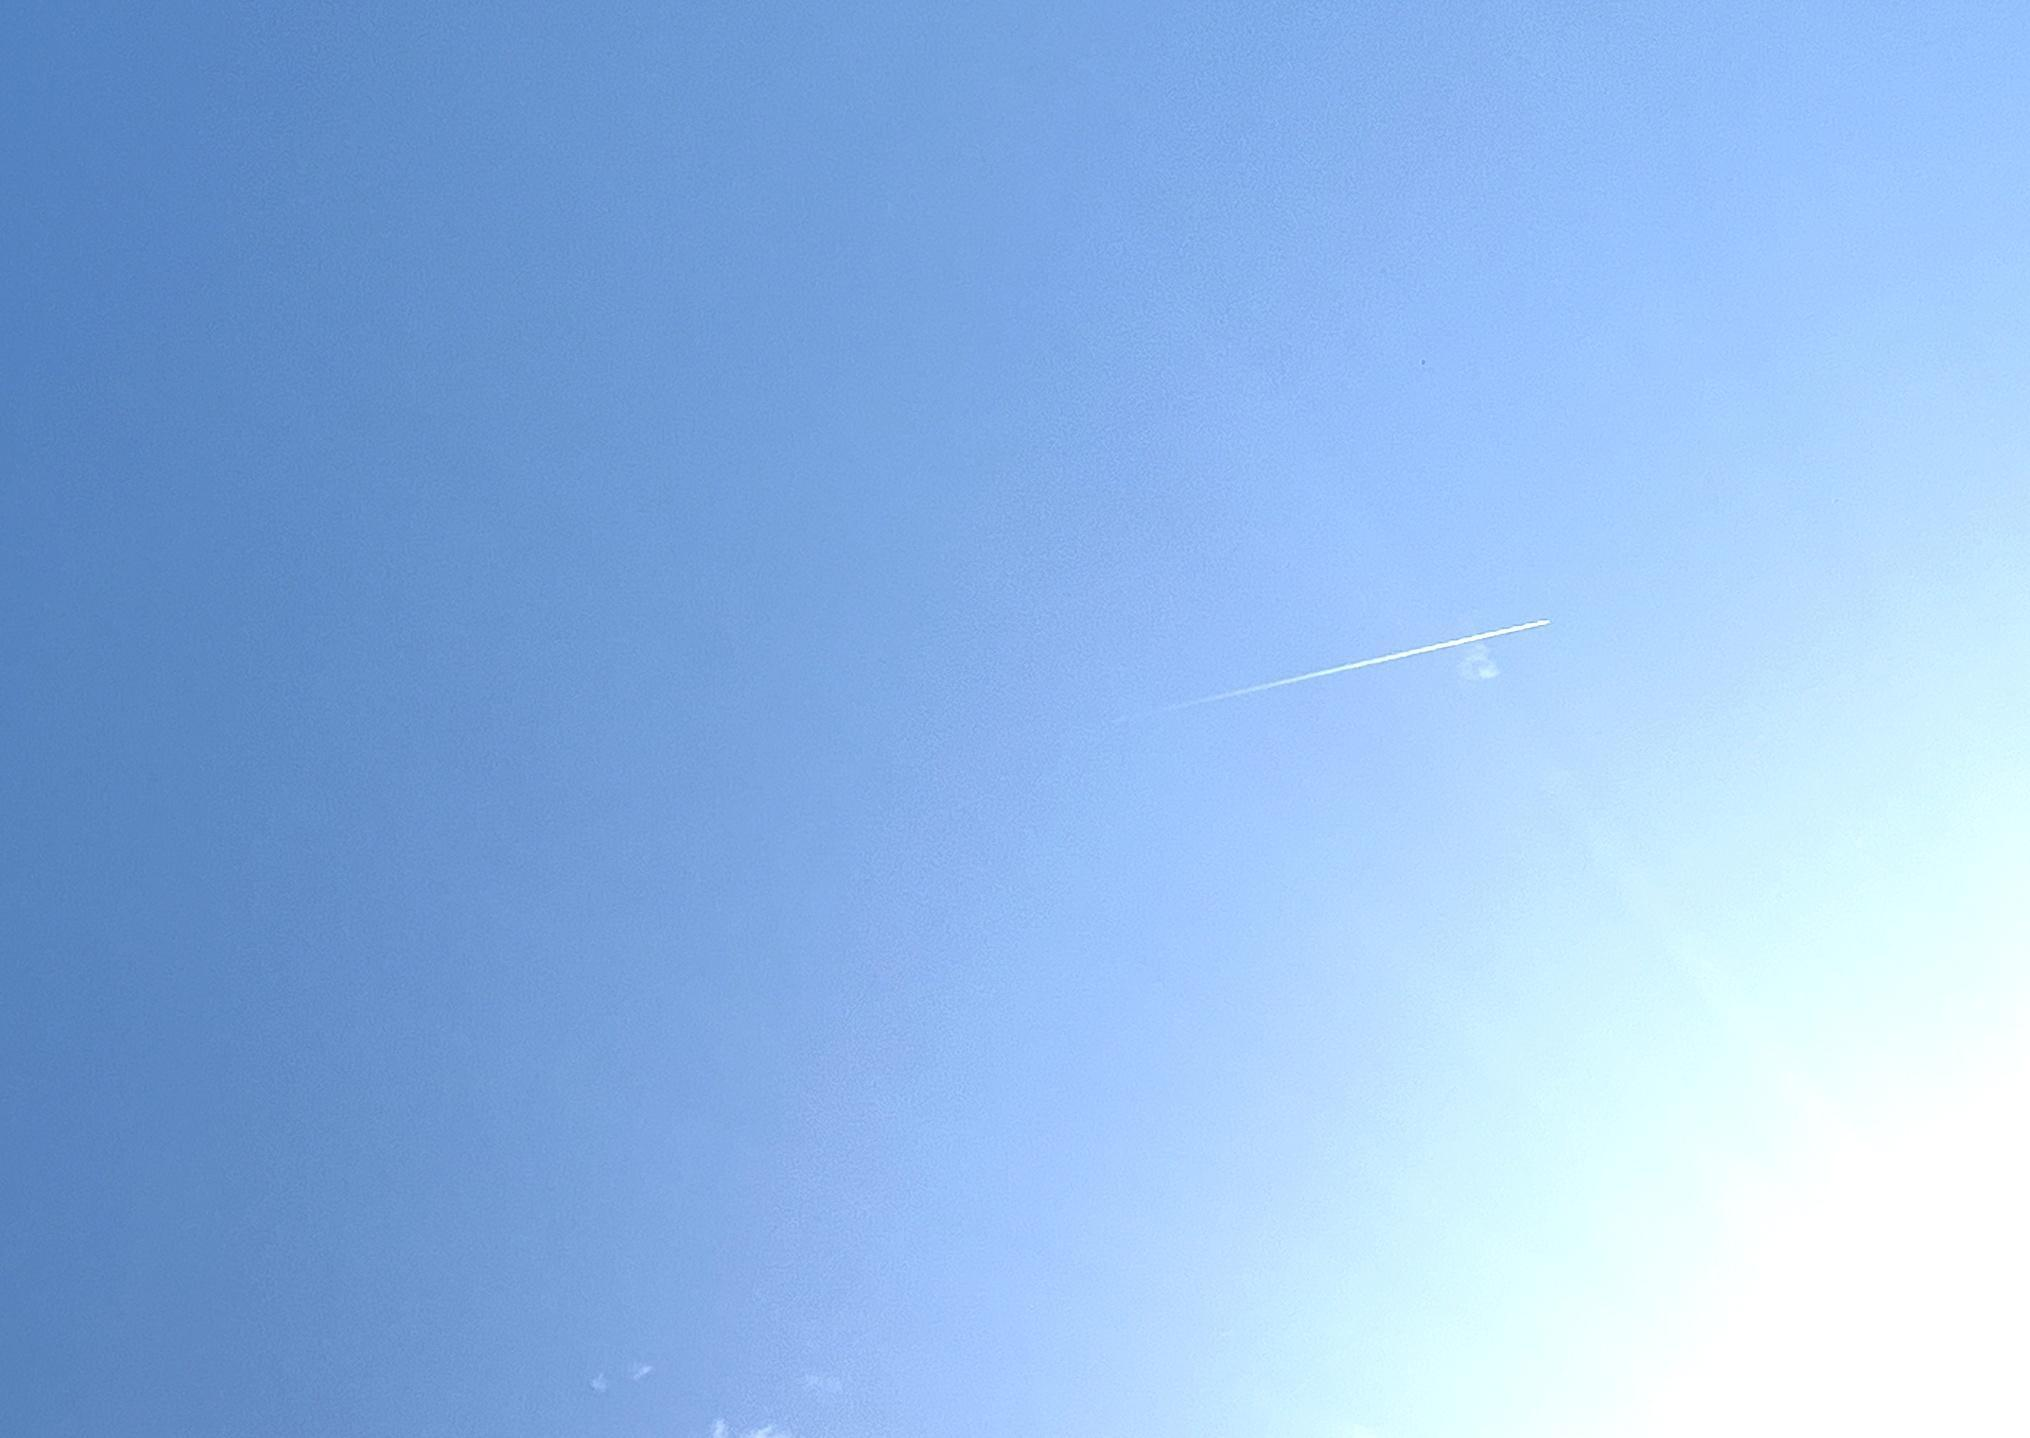Plane: (1167, 609, 1570, 719)
